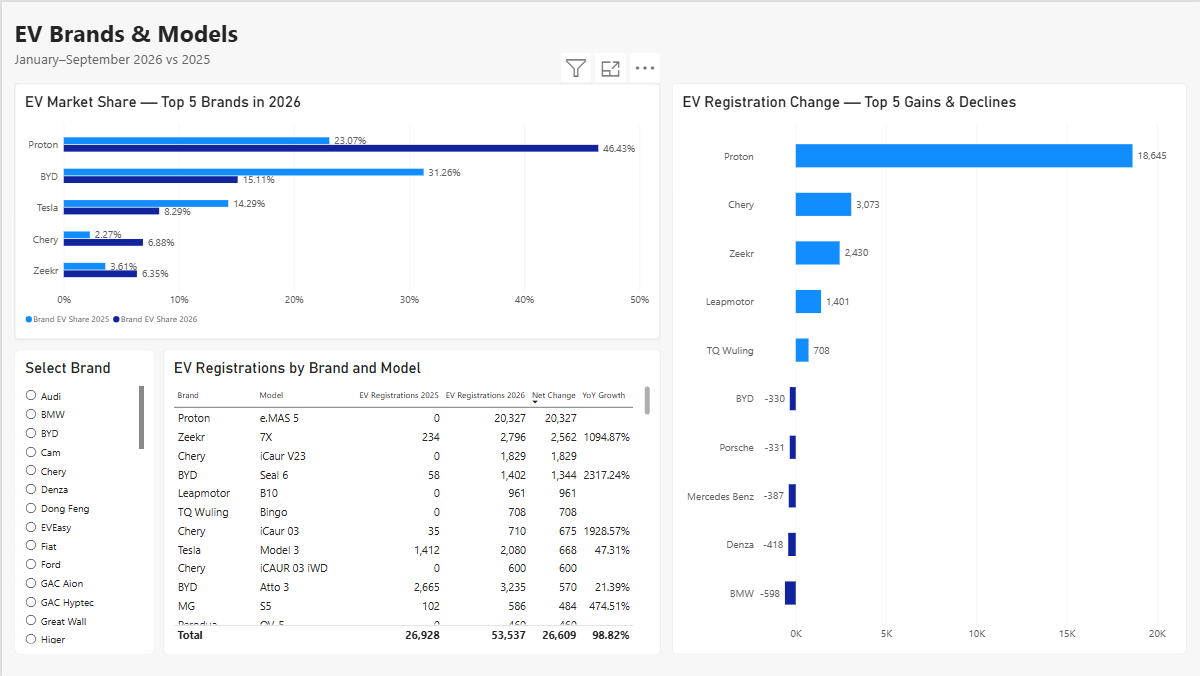

Layout of this report page (visuals, bound fields, positions):
{"tool":"powerbi","page":{"name":"Brands & Model","canvas":[1920,1080],"ordinal":1},"visuals":[{"type":"clusteredBarChart","title":"EV Registration Change — Top 5 Gains & Declines","fields":{"Category":["Registrations.maker"],"Y":["Registrations.EV Registration Change"]},"box":[1072.8,130.5,823,913.8],"z":0},{"type":"tableEx","title":"EV Registrations by Brand and Model","fields":{"Values":["Registrations.maker","Registrations.model","_Calculation.EV Registrations 2025 Display","_Calculation.EV Registrations 2026 Display","Registrations.EV Registration Change","Registrations.EV Registrations YoY"]},"box":[258,556,796,488],"z":1000},{"type":"listSlicer","title":"Select Brand","fields":{"Values":["Registrations.maker"]},"box":[20,556,224,488],"z":2000},{"type":"clusteredBarChart","title":"EV Market Share — Top 5 Brands in 2026","fields":{"Category":["Registrations.maker"],"Y":["_Calculation.Brand EV Share 2025","_Calculation.Brand EV Share 2026"]},"box":[20.8,130.5,1033,408.7],"z":3000},{"type":"textbox","box":[20,24,418,52],"z":4000},{"type":"textbox","box":[20,75.7,380,35.7],"z":5000}]}

Visuals, with their boxes on the page's 1920x1080 design canvas (x1, y1, x2, y2). These are canvas units, not pixel positions in the 1200x676 screenshot, which may show the page scaled, cropped or inside an application window:
"EV Registration Change — Top 5 Gains & Declines" clusteredBarChart: (1073,130,1896,1044)
"EV Registrations by Brand and Model" tableEx: (258,556,1054,1044)
"Select Brand" listSlicer: (20,556,244,1044)
"EV Market Share — Top 5 Brands in 2026" clusteredBarChart: (21,130,1054,539)
textbox: (20,24,438,76)
textbox: (20,76,400,111)
